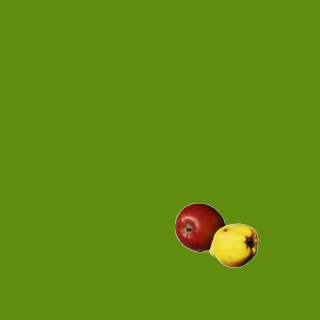Apple Braeburn: (174, 202, 224, 252)
Quince: (208, 220, 258, 270)
